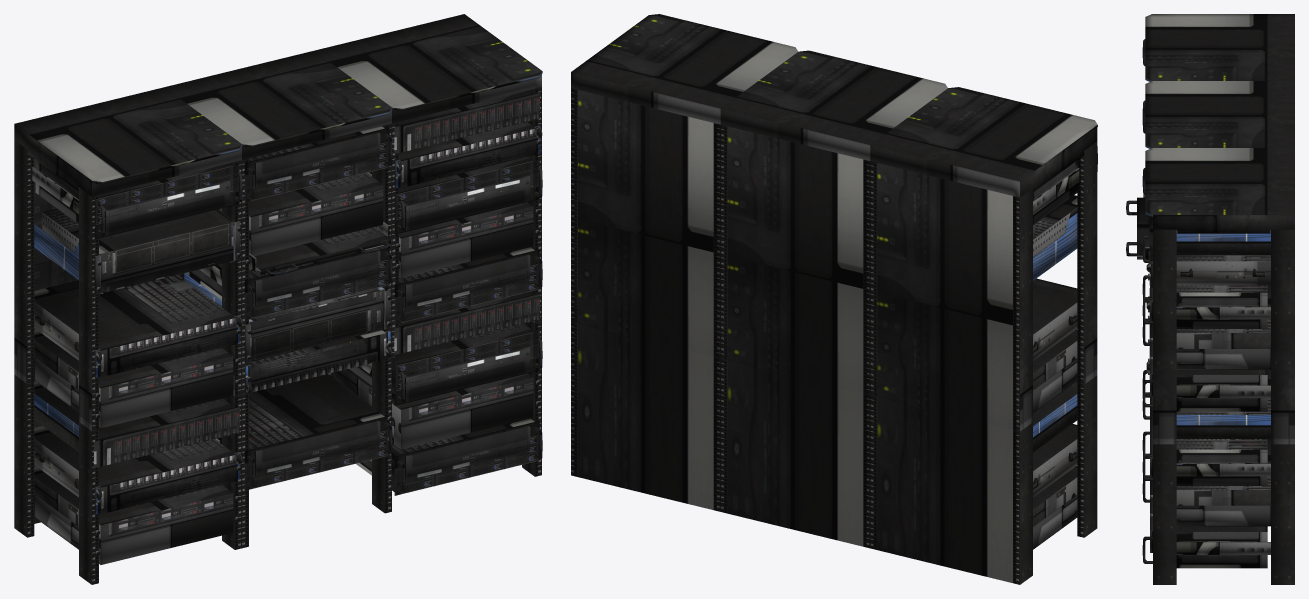
File: server-4002.glb
3 views of the same model, side by side, from view 1: azimuth 30°, elevation 25°; view 2: azimuth 150°, elevation 25°; view 3: azimuth 270°, elevation 25° (orthographic). The views are drawn at different scales.
Visible parts, largest first — view 1: Mesh_0; view 2: Mesh_0; view 3: Mesh_0.
Boxes of the visible parts, <box> form: Mesh_0: <box>14,14,542,584</box>; Mesh_0: <box>571,14,1097,584</box>; Mesh_0: <box>1126,14,1294,584</box>.
Size of the model in its own units: 2.6 by 2.23 by 0.9233.
Materials: 1 (1 with a texture image).
